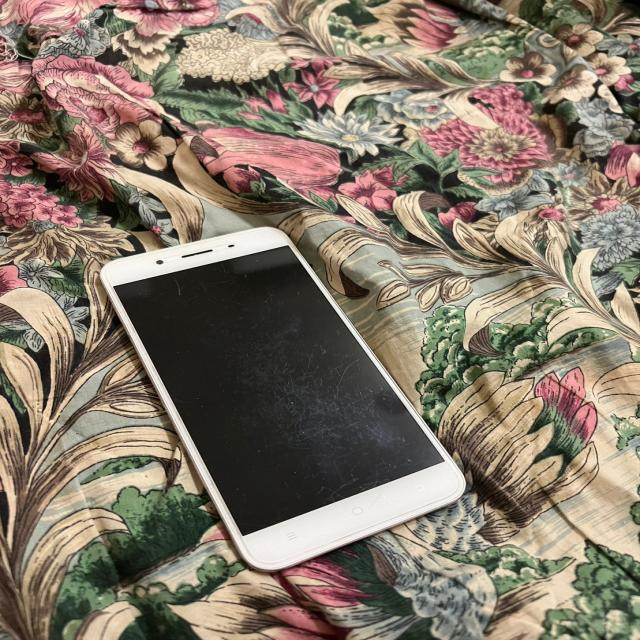Smartphone: (100, 227, 466, 572)
